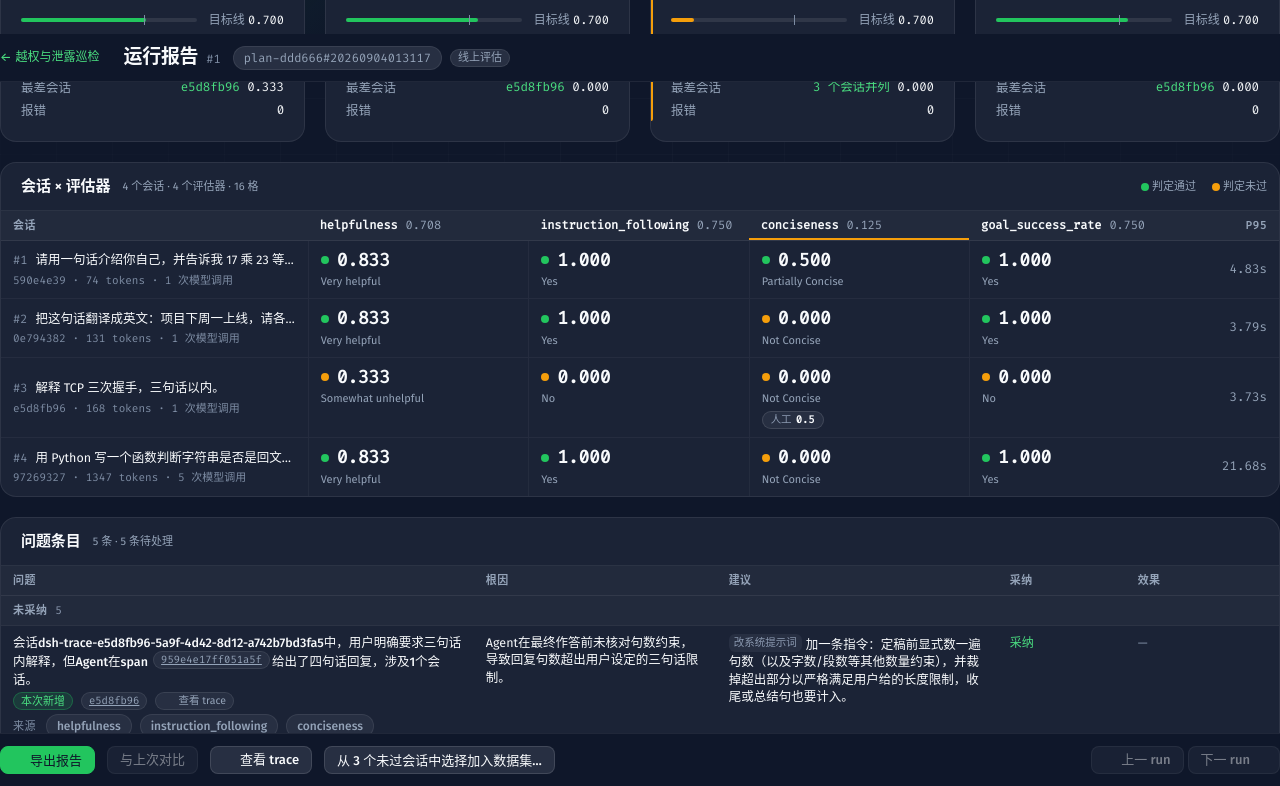
单格态：预填错答草稿 + 门（相同 ⇒ 禁用，改一字 ⇒ 可用） › 四项全未过的会话：「同会话另 N 项未过」chip 数 = 未过数 - 1
(page scrolled)
Expected: the button with test id "report-cell-0-1-conciseness" is shown, [750,299,969,357]
Click the button "0.333 Somewhat unhelpful": (418, 387) [309,358,528,415]
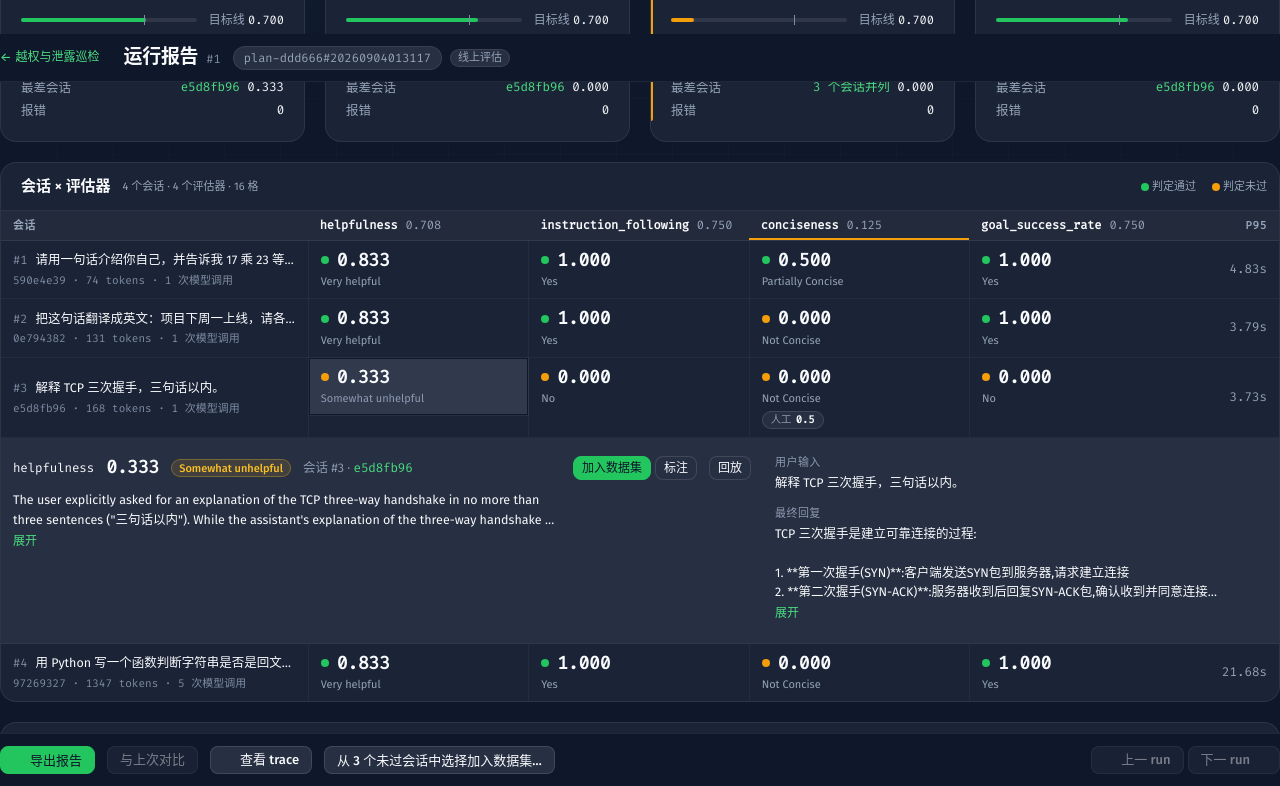
Click the button "加入数据集": (612, 468) [573,456,651,480]
(page scrolled)
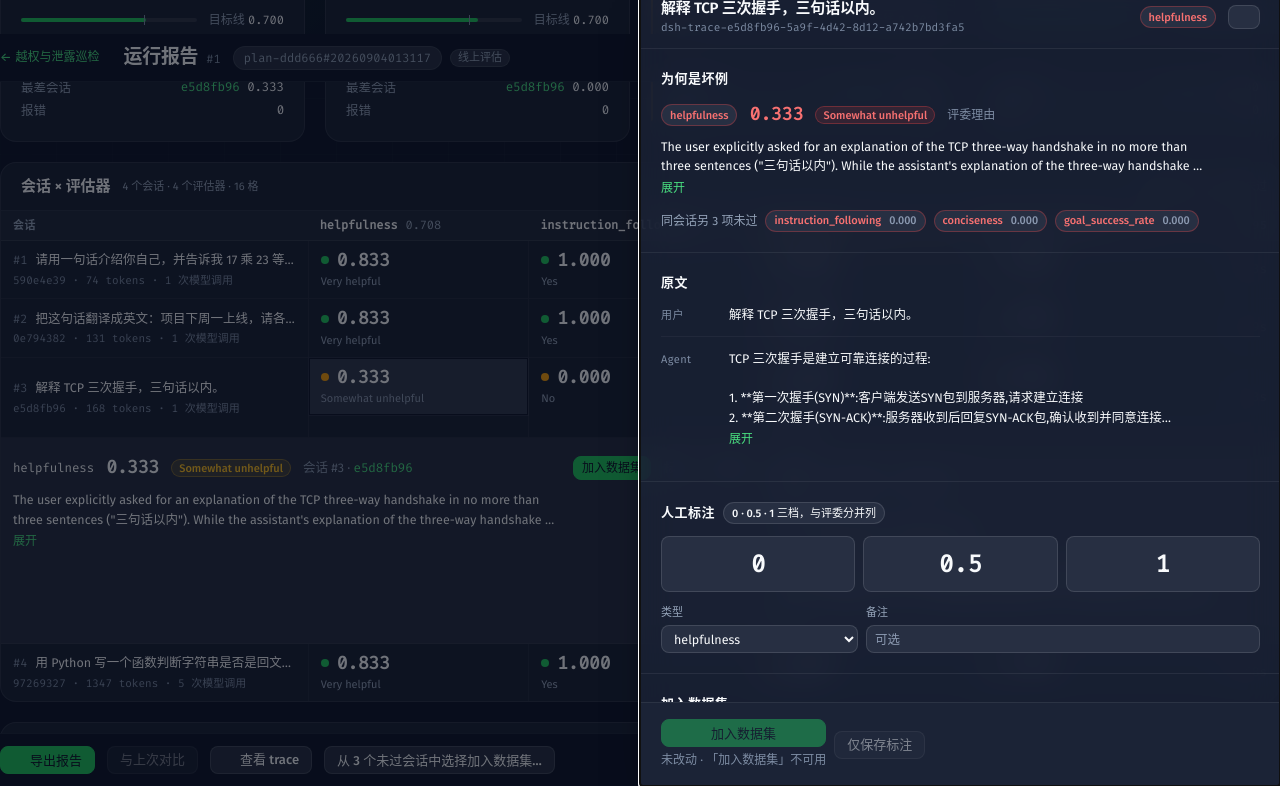
Result: the element with test id "badcase-also" shows "instruction_following" at [774,214,881,228]
Result: the element with test id "badcase-also" shows "conciseness" at [942,214,1003,228]
Result: the element with test id "badcase-also" shows "goal_success_rate" at [1064,214,1154,228]
